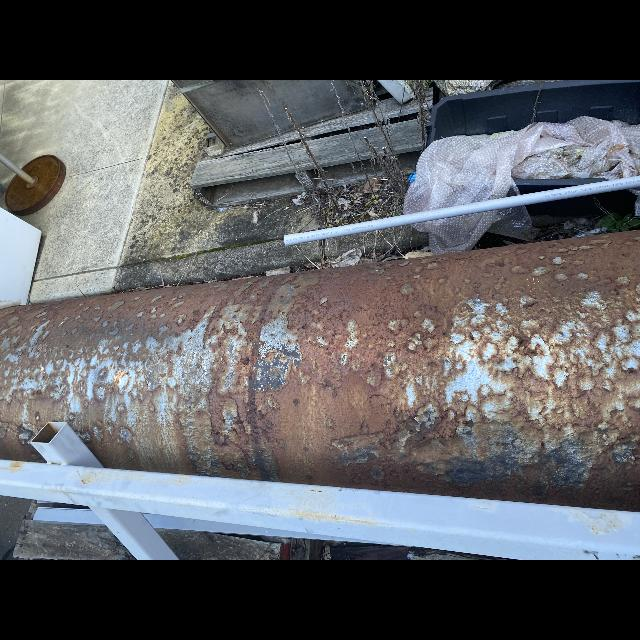Ferrous Metal: (0, 230, 640, 511), (1, 422, 639, 560), (0, 207, 42, 304), (5, 155, 66, 215)
